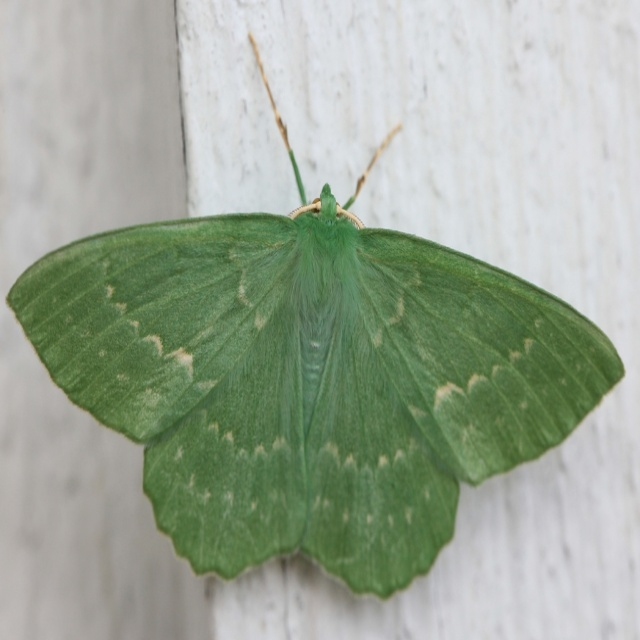Butterfly: (58, 55, 594, 607)
